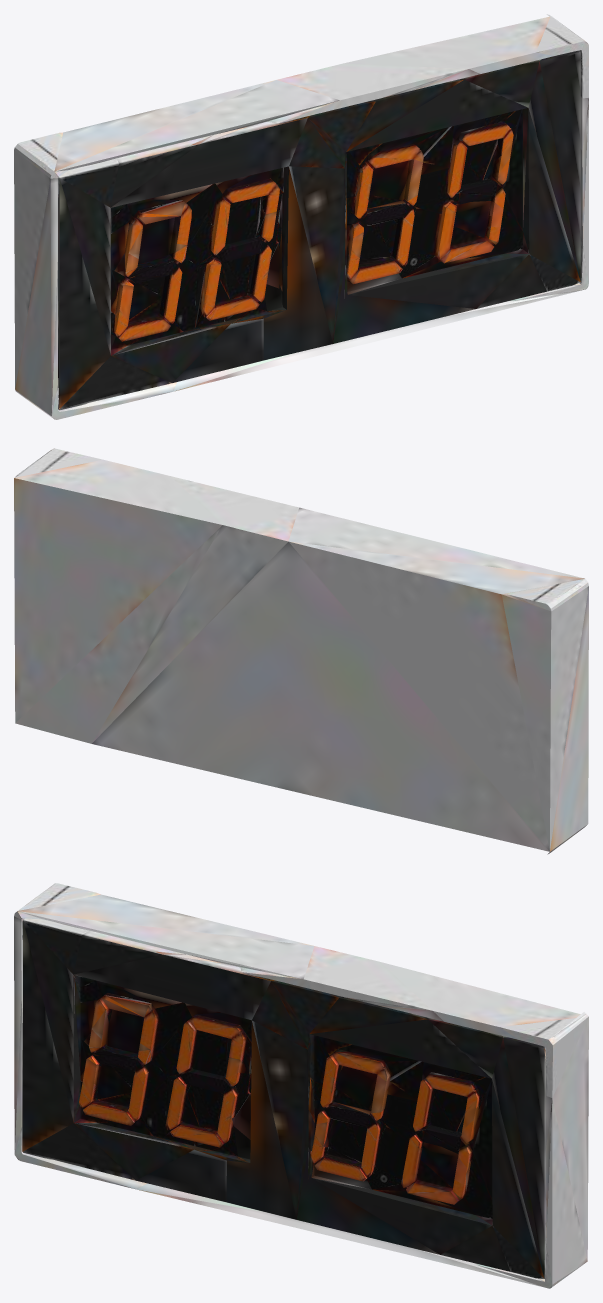
Rendered from gym_scoreboard_low.glb.
The picture shows the model from 3 angles, top to bottom: view 1: azimuth 30°, elevation 25°; view 2: azimuth 150°, elevation 25°; view 3: azimuth 330°, elevation 25°; orthographic projection.
Visible parts, largest first — view 1: gym_scoreboard; view 2: gym_scoreboard; view 3: gym_scoreboard.
Part boxes in pixels (x1=…): gym_scoreboard: x1=14, y1=14, x2=588, y2=419; gym_scoreboard: x1=14, y1=448, x2=588, y2=854; gym_scoreboard: x1=14, y1=883, x2=588, y2=1288.
Bounding box in the file's own units: 2.4 × 1.07 × 0.2906.
Materials: 1 (1 with a texture image).
